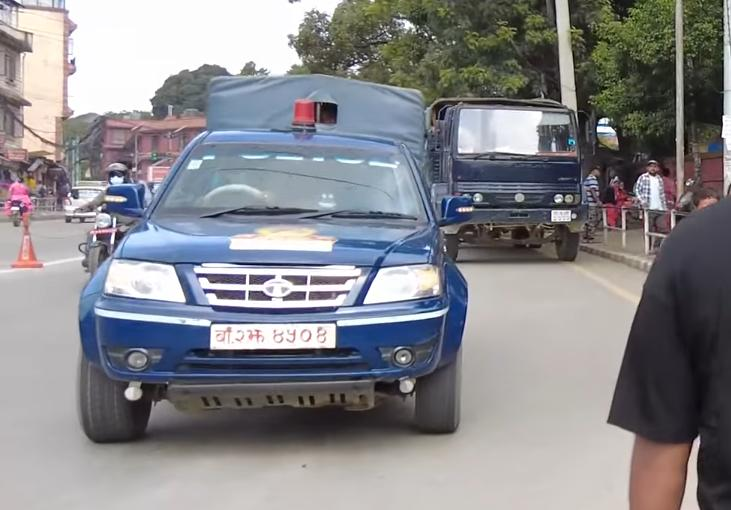bike: (72, 199, 152, 278)
police_vehicle: (54, 64, 477, 457)
